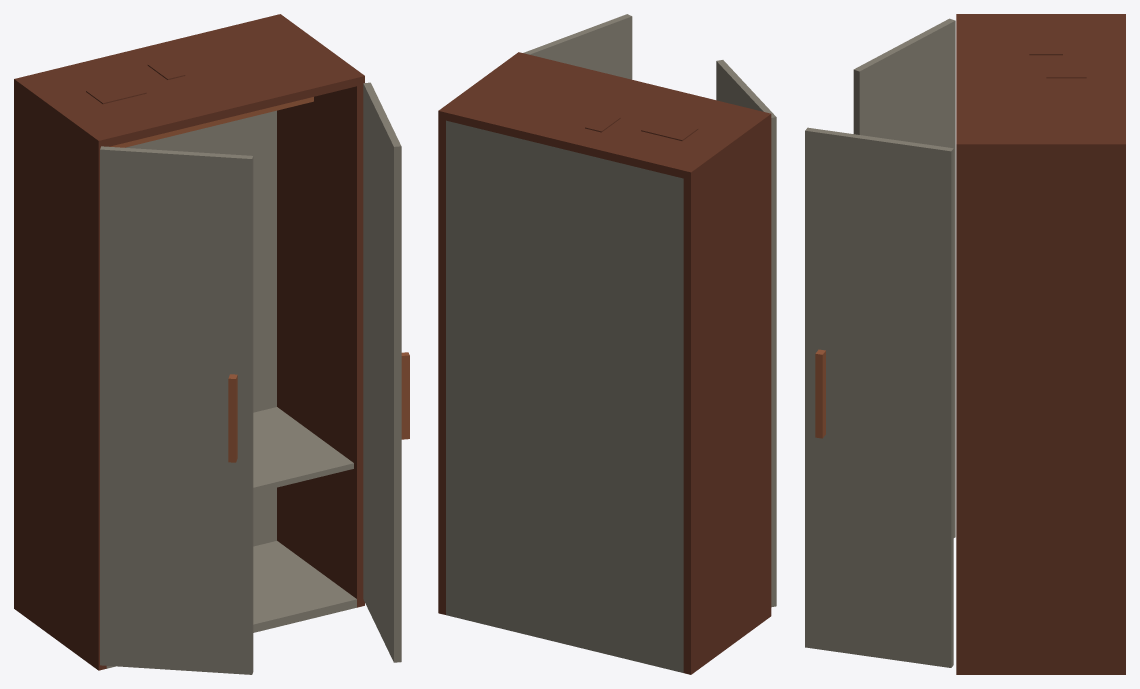
File: GI_Wardrobe_Damaged_01.glb
The picture shows the model from 3 angles, left to right: view 1: azimuth 30°, elevation 25°; view 2: azimuth 150°, elevation 25°; view 3: azimuth 270°, elevation 25°; orthographic projection. The views are drawn at different scales.
Parts seen in each view (by area): view 1: GI_Wardrobe_Damaged_01, DoorL, DoorR; view 2: GI_Wardrobe_Damaged_01, DoorL, DoorR; view 3: GI_Wardrobe_Damaged_01, DoorR, DoorL.
Boxes of the visible parts, left/top/right/bottom form: GI_Wardrobe_Damaged_01: left=14, top=14, right=364, bottom=670; DoorL: left=100, top=146, right=253, bottom=674; DoorR: left=363, top=82, right=409, bottom=662; GI_Wardrobe_Damaged_01: left=438, top=52, right=771, bottom=674; DoorL: left=716, top=60, right=776, bottom=607; DoorR: left=523, top=14, right=632, bottom=79; GI_Wardrobe_Damaged_01: left=956, top=14, right=1125, bottom=674; DoorR: left=805, top=127, right=953, bottom=667; DoorL: left=853, top=18, right=955, bottom=537.
Size of the model in its own units: 1.02 by 1.9 by 1.04.
1 material, 1 textured.
